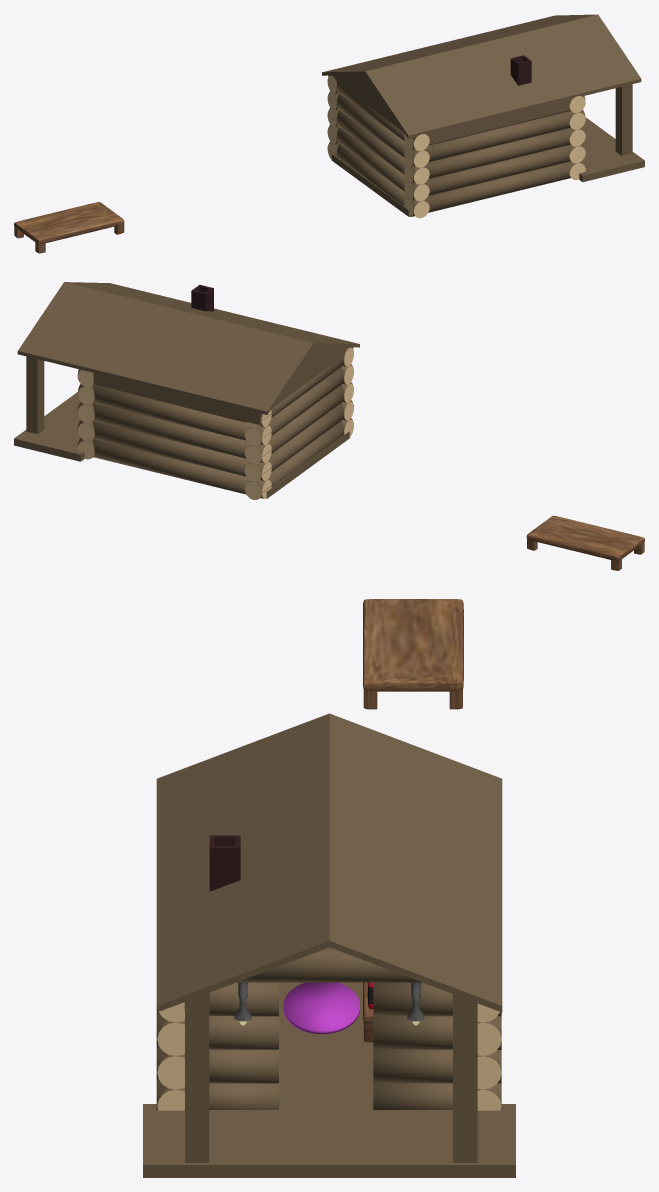
The model's file is logcabin_debug.fbx.
3 views of the same model, one above another, from view 1: azimuth 30°, elevation 25°; view 2: azimuth 150°, elevation 25°; view 3: azimuth 270°, elevation 25° (orthographic). The views are drawn at different scales.
Visible parts, largest first — view 1: Chimney.001, Front Wall, Chimney, Bedframe; view 2: Chimney.001, Front Wall, Chimney, Bedframe; view 3: Chimney.001, Chimney, Front Wall, Bedframe, Carpet, Light.L.
Part boxes in pixels (x1,y1,x2,y2): Chimney.001: (322,14,641,144); Front Wall: (327,75,585,218); Chimney: (331,84,644,216); Bedframe: (14,202,124,253); Chimney.001: (17,282,359,425); Front Wall: (77,347,353,499); Chimney: (14,356,349,498); Bedframe: (526,515,644,570); Chimney.001: (156,713,502,1012); Chimney: (143,982,515,1177); Front Wall: (156,947,501,1110); Bedframe: (363,599,463,709); Carpet: (283,982,359,1034); Light.L: (234,982,424,1025).
Bounding box in the file's own units: 1768 × 363 × 518.
